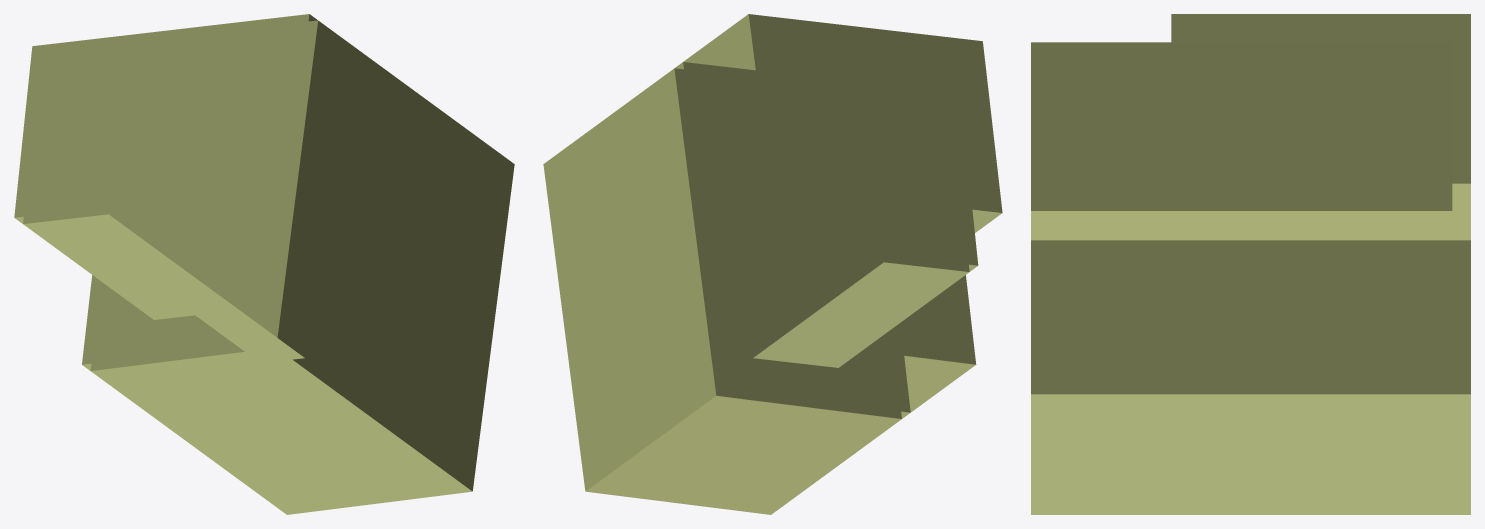
The picture shows the model from 3 angles, left to right: view 1: azimuth 30°, elevation 25°; view 2: azimuth 150°, elevation 25°; view 3: azimuth 270°, elevation 25°; orthographic projection. The views are drawn at different scales.
Visible parts, largest first — view 1: 0_1_2_0_3_3_1_2_0_1_3; view 2: 0_1_2_0_3_3_1_2_0_1_3; view 3: 0_1_2_0_3_3_1_2_0_1_3.
Part boxes in pixels (left/top/right/bottom): 0_1_2_0_3_3_1_2_0_1_3: left=14, top=14, right=514, bottom=514; 0_1_2_0_3_3_1_2_0_1_3: left=543, top=14, right=1002, bottom=514; 0_1_2_0_3_3_1_2_0_1_3: left=1031, top=14, right=1470, bottom=514.
Bounding box in the file's own units: 7.81 × 8.91 × 9.4.
